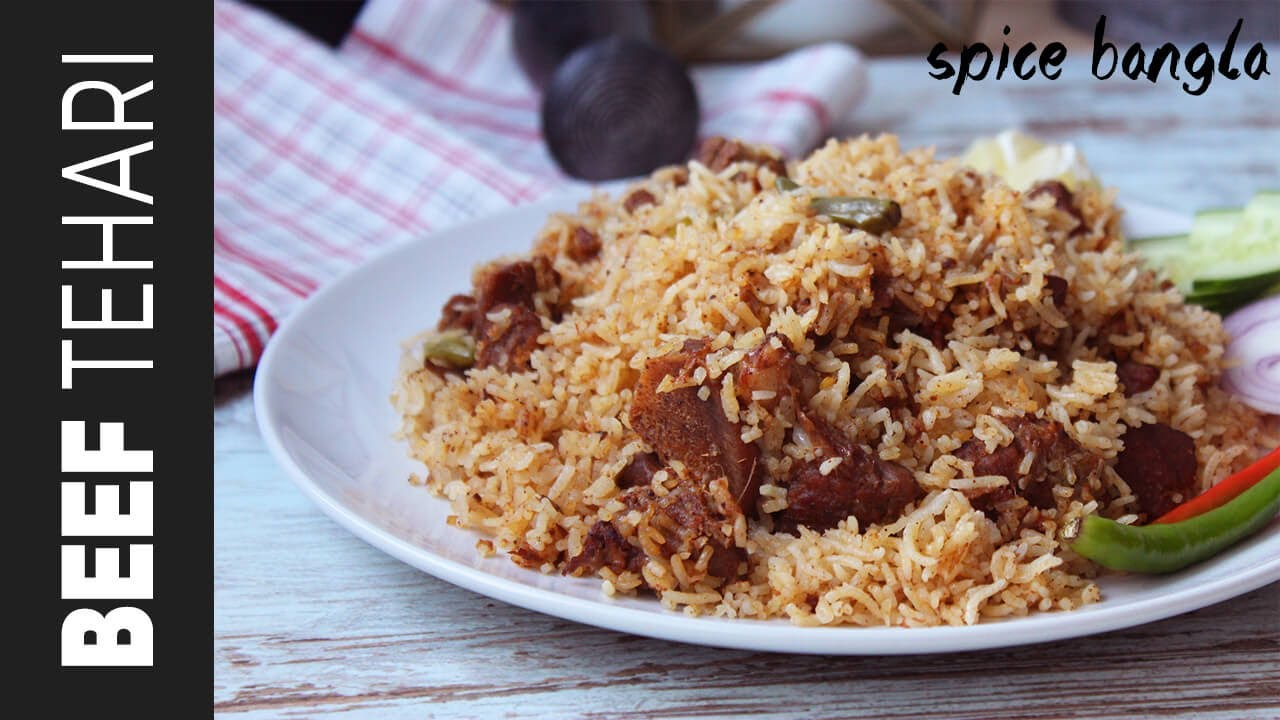tehari: (377, 132, 1279, 624)
